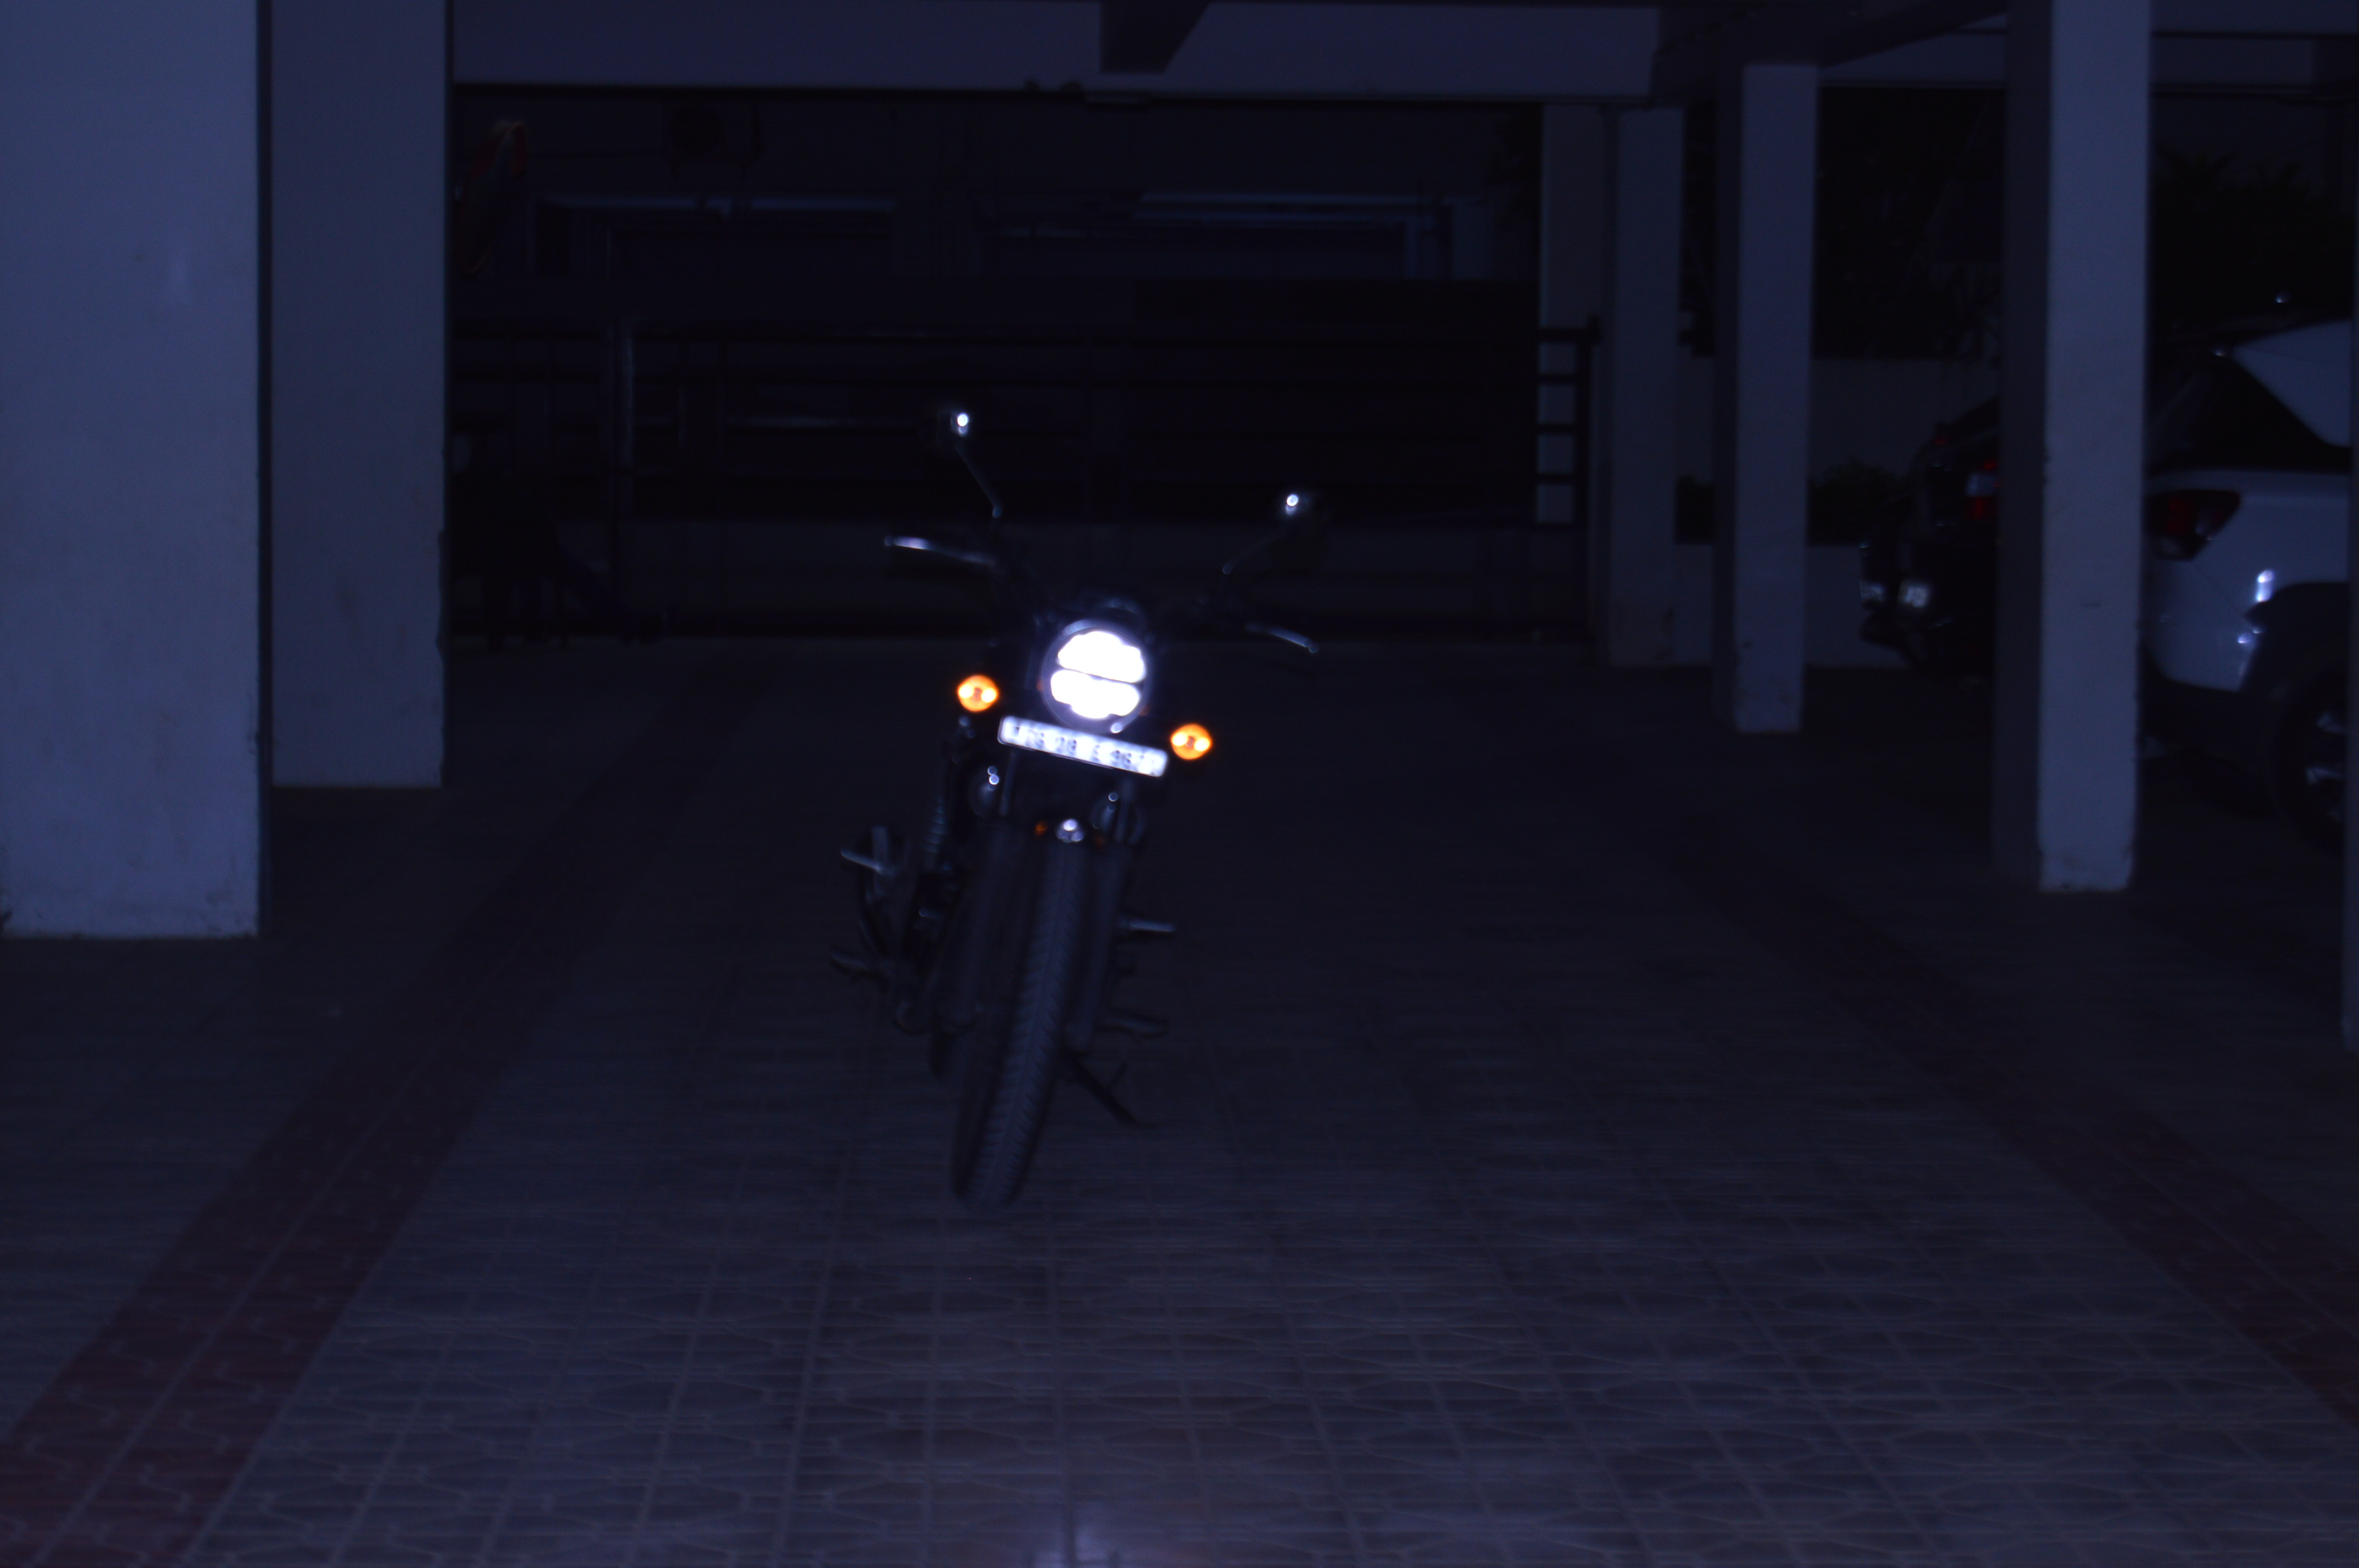Glare: (1048, 626, 1146, 723)
